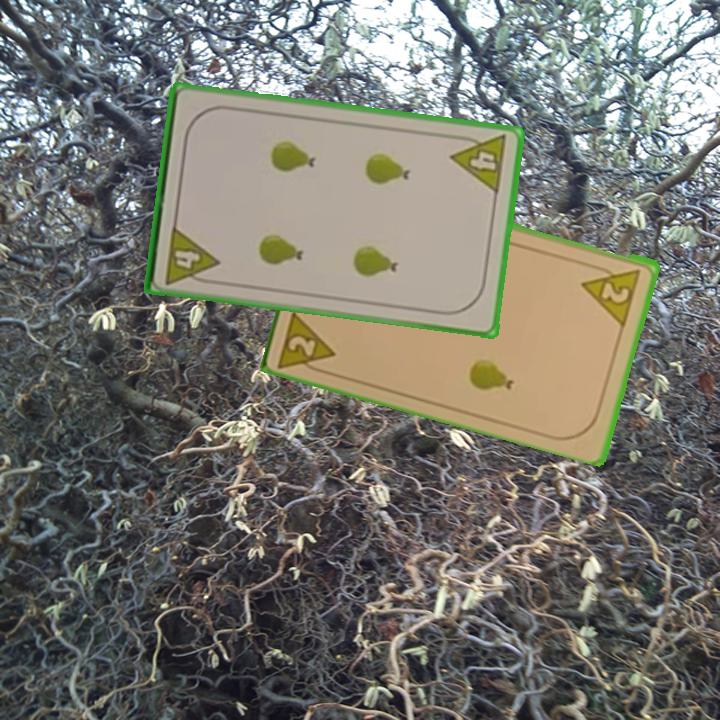2p: (274, 303, 340, 378), (579, 261, 645, 327)
4p: (447, 131, 510, 197), (161, 222, 221, 287)
